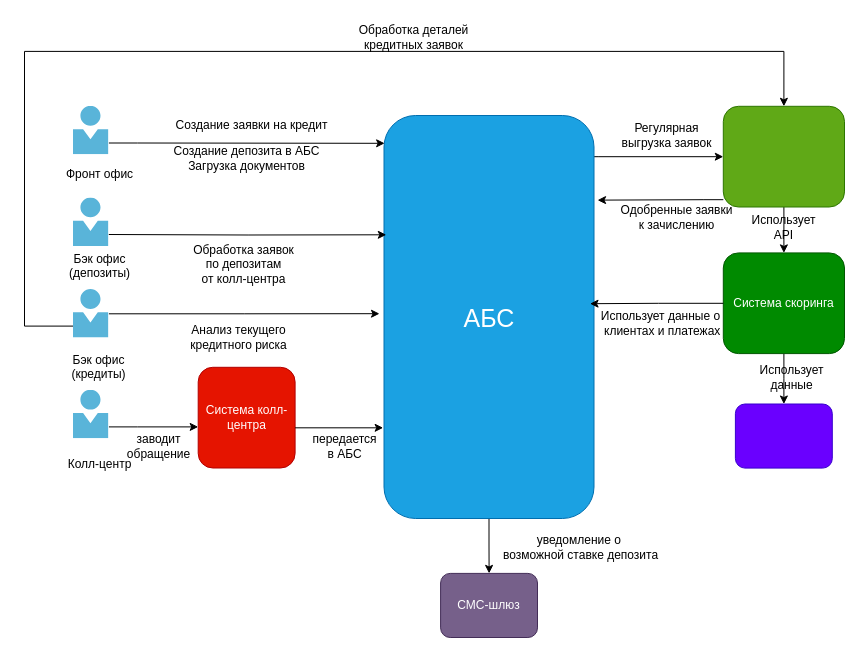
This 862x655 diagram has some shape labels left out. Each missing label, with the centre of its shape:
Бюро кредитных историй: point 783,435
Кредитный конвейер: point 783,156
